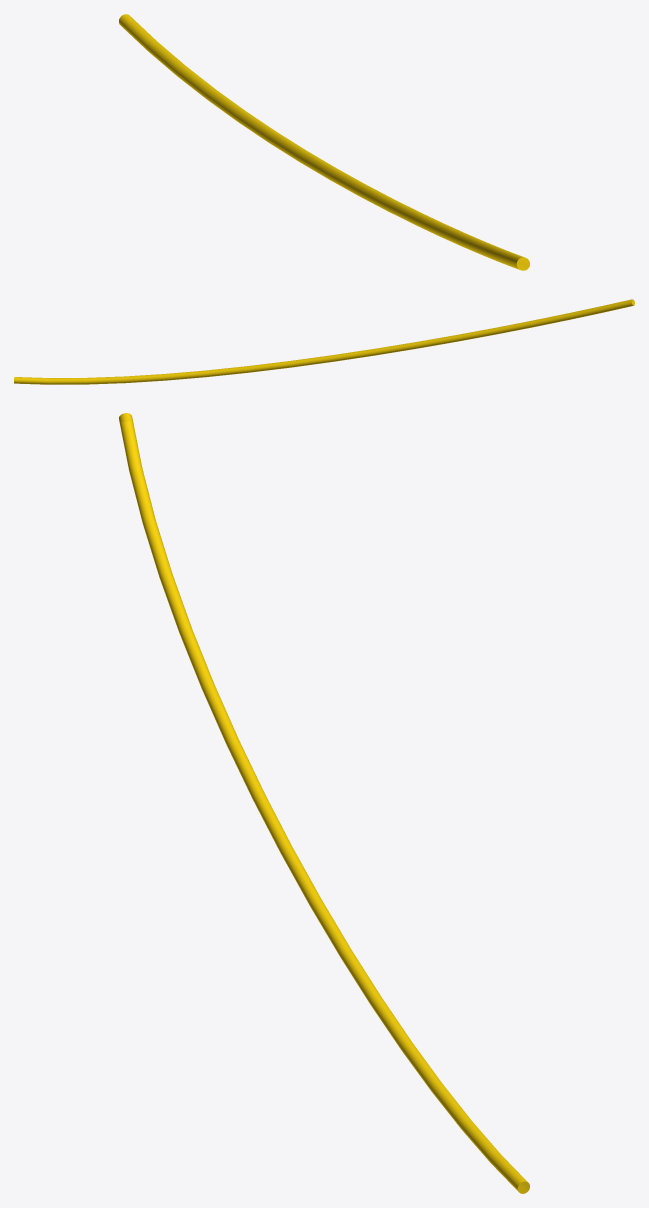
File: Event_421364160_track_6.fbx
3 views of the same model, one above another, from view 1: azimuth 90°, elevation 25°; view 2: azimuth 150°, elevation 25°; view 3: azimuth 270°, elevation 25° (orthographic). The views are drawn at different scales.
Visible parts, largest first — view 1: Model; view 2: Model; view 3: Model.
Part boxes in pixels (<box>): Model: <box>119,14,529,270</box>; Model: <box>14,299,634,384</box>; Model: <box>119,413,529,1193</box>.
Size of the model in its own units: 3.56 by 0.8956 by 1.21.
